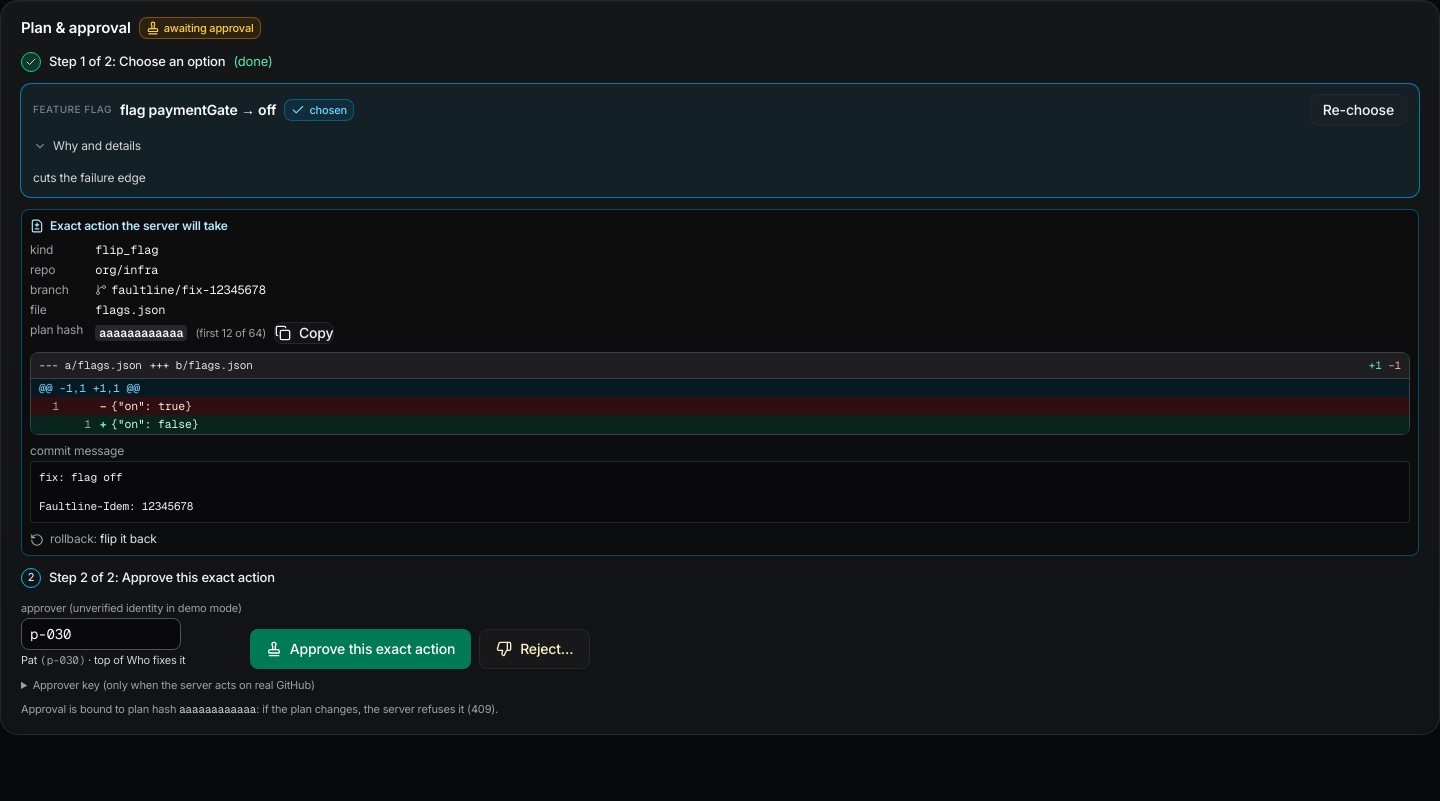
Test: PlanApprovalCard: reject the exact action › Escape closes the reject form and returns focus to the Reject button
Click the button "Reject…": click(535, 649) [479,629,590,669]
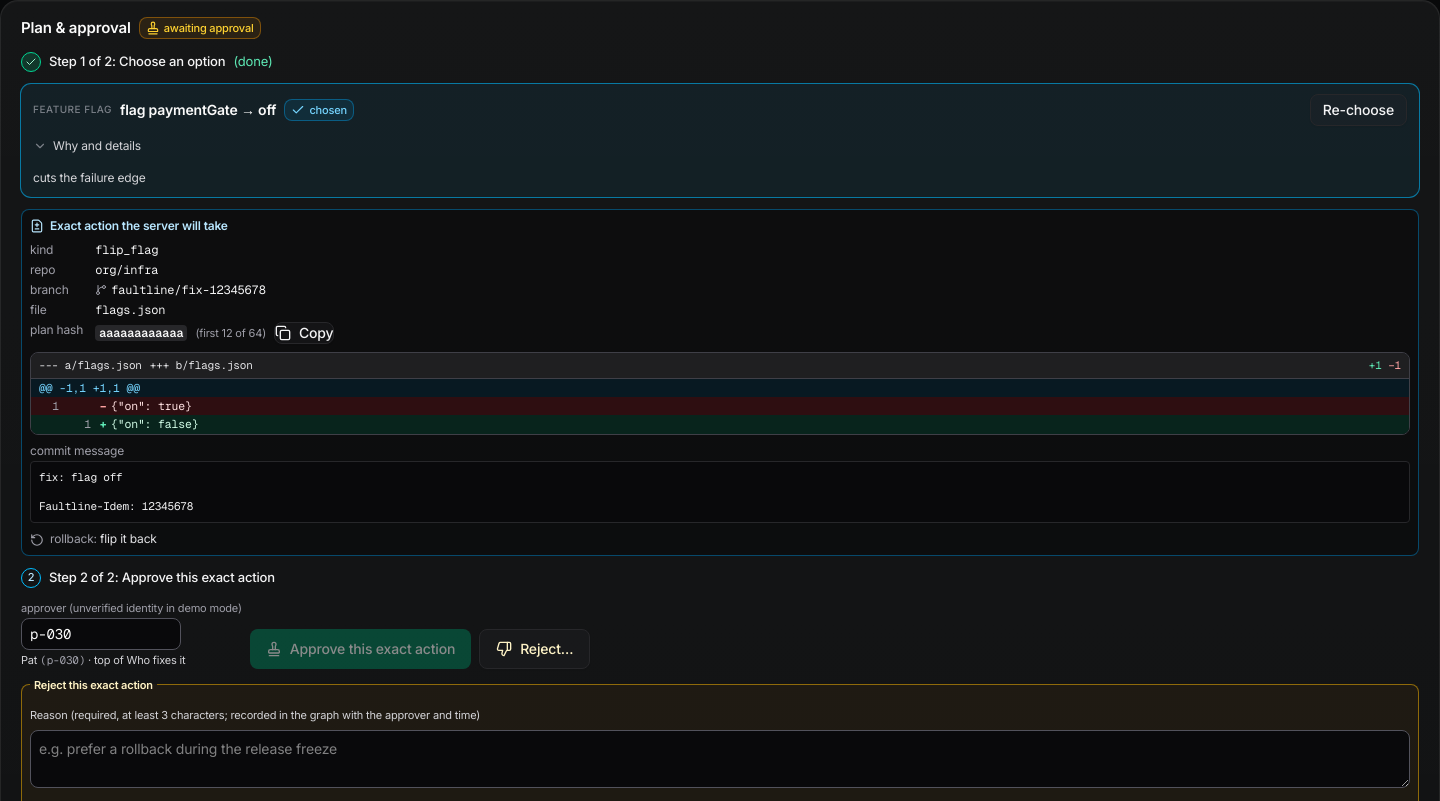
Press Escape in the text box labelled "Reason", box [30,730,1410,788]
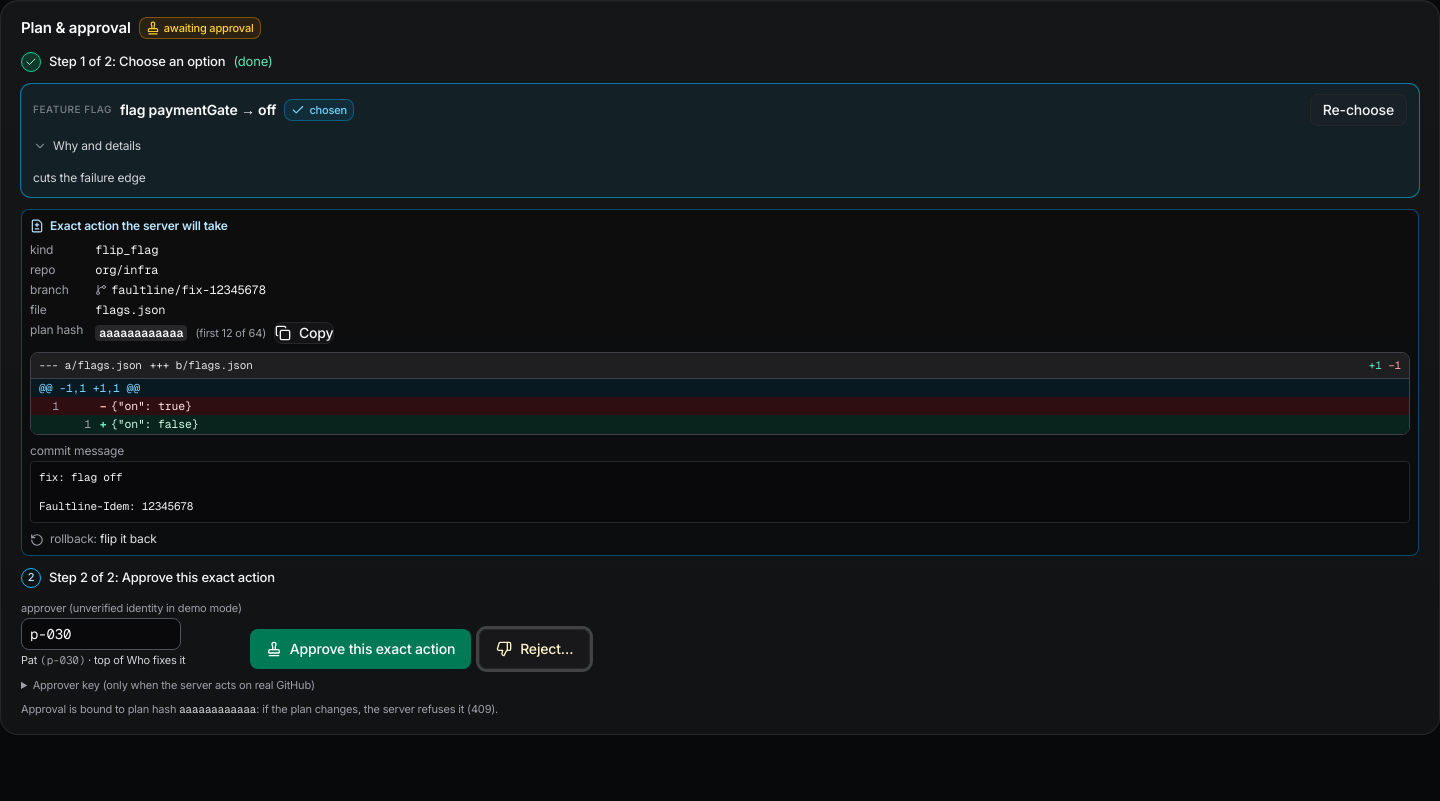
Now the label labelled "Reason" is gone
